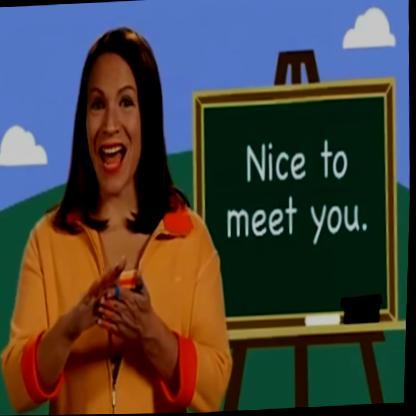NiceToMeetYou: (67, 244, 160, 364)
